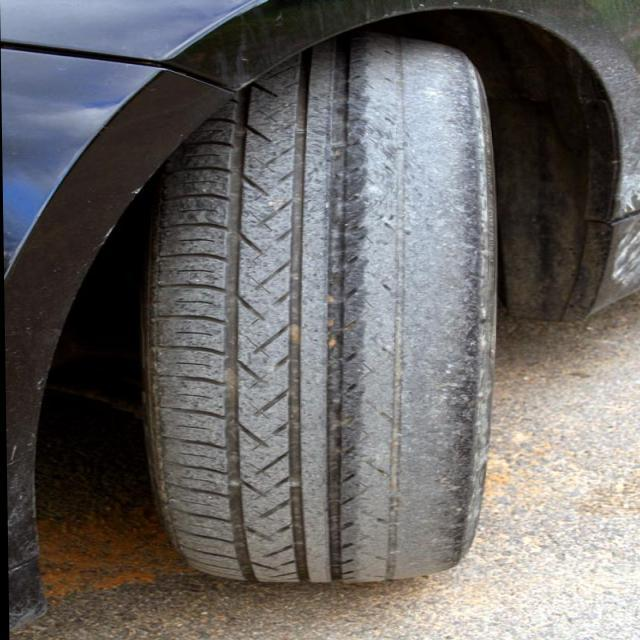Flat spots: (314, 30, 496, 585)
